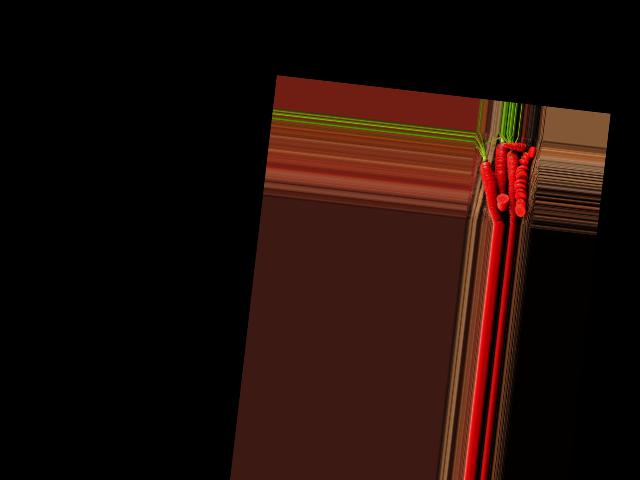carrot: (496, 145, 527, 227)
